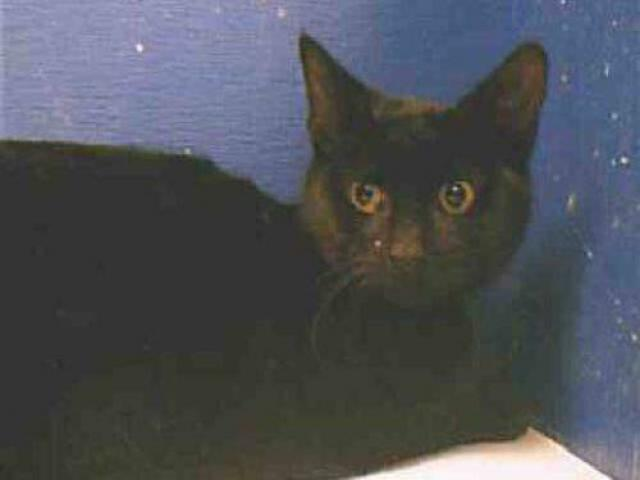cat: (293, 29, 553, 318)
